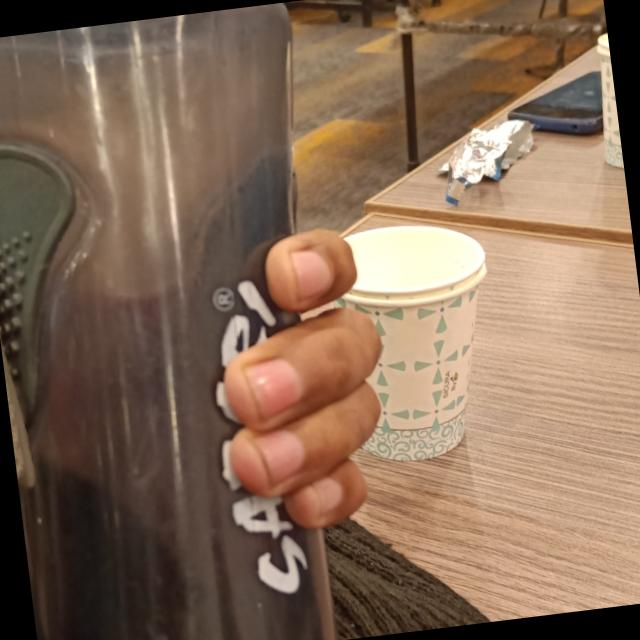Nail: (245, 359, 301, 416), (258, 432, 304, 480), (292, 250, 333, 297), (311, 476, 342, 511)
